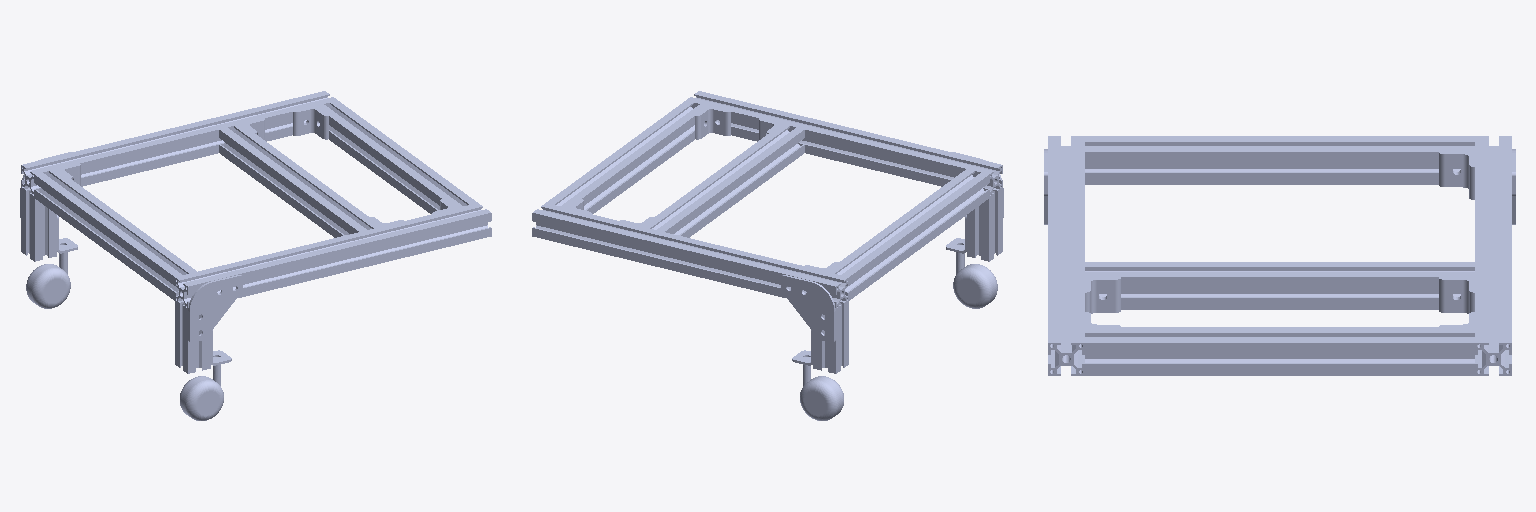
URDF robot description (ROS_Module_Assembly_v6):
<?xml version="1.0" encoding="utf-8"?>
<!-- This URDF was automatically created by SolidWorks to URDF Exporter! Originally created by [author] ([email redacted]) 
     Commit Version: 1.6.0-4-g7f85cfe  Build Version: 1.6.7995.38578
     For more information, please see http://wiki.ros.org/sw_urdf_exporter -->
<robot
  name="ROS_Module_Assembly_v6">
  <link
    name="base_link">
    <inertial>
      <origin
        xyz="0.0317243201587634 -0.128858942998281 -0.0390948539276145"
        rpy="0 0 0" />
      <mass
        value="2.19605365865044" />
      <inertia
        ixx="0.0063696939795915"
        ixy="3.38792695900137E-05"
        ixz="-1.30911858394434E-07"
        iyy="0.0035477515326301"
        iyz="-1.1650821227698E-06"
        izz="0.00903296845626077" />
    </inertial>
    <visual>
      <origin
        xyz="0 0 0"
        rpy="0 0 0" />
      <geometry>
        <mesh
          filename="package://ROS_Module_Assembly_v6/meshes/base_link.STL" />
      </geometry>
      <material
        name="">
        <color
          rgba="0.792156862745098 0.819607843137255 0.933333333333333 1" />
      </material>
    </visual>
    <collision>
      <origin
        xyz="0 0 0"
        rpy="0 0 0" />
      <geometry>
        <mesh
          filename="package://ROS_Module_Assembly_v6/meshes/base_link.STL" />
      </geometry>
    </collision>
  </link>
  <link
    name="input_rot_motor">
    <inertial>
      <origin
        xyz="-4.27720584713631E-05 0.0320085266107966 7.43535191642941E-05"
        rpy="0 0 0" />
      <mass
        value="0.0250911416959944" />
      <inertia
        ixx="7.17846660403851E-06"
        ixy="6.77842383614617E-10"
        ixz="-1.16921418139205E-08"
        iyy="2.34243127132187E-06"
        iyz="-1.1777267416574E-09"
        izz="7.1920657280501E-06" />
    </inertial>
    <visual>
      <origin
        xyz="0 0 0"
        rpy="0 0 0" />
      <geometry>
        <mesh
          filename="package://ROS_Module_Assembly_v6/meshes/input_rot_motor.STL" />
      </geometry>
      <material
        name="">
        <color
          rgba="0.792156862745098 0.819607843137255 0.933333333333333 1" />
      </material>
    </visual>
    <collision>
      <origin
        xyz="0 0 0"
        rpy="0 0 0" />
      <geometry>
        <mesh
          filename="package://ROS_Module_Assembly_v6/meshes/input_rot_motor.STL" />
      </geometry>
    </collision>
  </link>
  <joint
    name="base_to_input_rot_motor"
    type="continuous">
    <origin
      xyz="-0.00425 -0.18427 -0.009"
      rpy="1.5708 0 -1.5708" />
    <parent
      link="base_link" />
    <child
      link="input_rot_motor" />
    <axis
      xyz="0 1 0" />
  </joint>
  <link
    name="input_transl_motor">
    <inertial>
      <origin
        xyz="-1.86501153539576E-05 0.0471529677388538 -6.65458510142325E-05"
        rpy="0 0 0" />
      <mass
        value="0.0322551764640257" />
      <inertia
        ixx="1.59512613902741E-05"
        ixy="1.85134210099302E-09"
        ixz="3.57500867077241E-09"
        iyy="2.73036636453636E-06"
        iyz="6.6055090731218E-09"
        izz="1.59630154913409E-05" />
    </inertial>
    <visual>
      <origin
        xyz="0 0 0"
        rpy="0 0 0" />
      <geometry>
        <mesh
          filename="package://ROS_Module_Assembly_v6/meshes/input_transl_motor.STL" />
      </geometry>
      <material
        name="">
        <color
          rgba="0.792156862745098 0.819607843137255 0.933333333333333 1" />
      </material>
    </visual>
    <collision>
      <origin
        xyz="0 0 0"
        rpy="0 0 0" />
      <geometry>
        <mesh
          filename="package://ROS_Module_Assembly_v6/meshes/input_transl_motor.STL" />
      </geometry>
    </collision>
  </link>
  <joint
    name="base_to_transl_input"
    type="continuous">
    <origin
      xyz="0.07615 -0.16897 -0.008"
      rpy="1.5708 0 -1.8542" />
    <parent
      link="base_link" />
    <child
      link="input_transl_motor" />
    <axis
      xyz="0 1 0" />
  </joint>
  <link
    name="fork">
    <inertial>
      <origin
        xyz="9.71972270755739E-05 0.0198553943634375 -0.176442224634371"
        rpy="0 0 0" />
      <mass
        value="2.19393880104194" />
      <inertia
        ixx="0.00906173079537833"
        ixy="-1.54635658018766E-08"
        ixz="4.26201865444648E-06"
        iyy="0.0114899357916851"
        iyz="2.93350054754079E-05"
        izz="0.00390974131552444" />
    </inertial>
    <visual>
      <origin
        xyz="0 0 0"
        rpy="0 0 0" />
      <geometry>
        <mesh
          filename="package://ROS_Module_Assembly_v6/meshes/fork.STL" />
      </geometry>
      <material
        name="">
        <color
          rgba="0.792156862745098 0.819607843137255 0.933333333333333 1" />
      </material>
    </visual>
    <collision>
      <origin
        xyz="0 0 0"
        rpy="0 0 0" />
      <geometry>
        <mesh
          filename="package://ROS_Module_Assembly_v6/meshes/fork.STL" />
      </geometry>
    </collision>
  </link>
  <joint
    name="base_to_rot_fork"
    type="continuous">
    <origin
      xyz="0 0 0"
      rpy="0 0 0" />
    <parent
      link="base_link" />
    <child
      link="fork" />
    <axis
      xyz="0 0 1" />
  </joint>
  <link
    name="wheel">
    <inertial>
      <origin
        xyz="-0.0455118218515306 3.86107844252415E-06 3.16423035934266E-06"
        rpy="0 0 0" />
      <mass
        value="2.07570429999043" />
      <inertia
        ixx="0.032300006871377"
        ixy="-1.59875092218274E-09"
        ixz="9.58573111097097E-08"
        iyy="0.0166149864765961"
        iyz="-5.31143418125695E-09"
        izz="0.0166150262434133" />
    </inertial>
    <visual>
      <origin
        xyz="0 0 0"
        rpy="0 0 0" />
      <geometry>
        <mesh
          filename="package://ROS_Module_Assembly_v6/meshes/wheel.STL" />
      </geometry>
      <material
        name="">
        <color
          rgba="0.792156862745098 0.819607843137255 0.933333333333333 1" />
      </material>
    </visual>
    <collision>
      <origin
        xyz="0 0 0"
        rpy="0 0 0" />
      <geometry>
        <mesh
          filename="package://ROS_Module_Assembly_v6/meshes/wheel.STL" />
      </geometry>
    </collision>
  </link>
  <joint
    name="fork_to_wheel"
    type="continuous">
    <origin
      xyz="0 0.049968 -0.336"
      rpy="-1.6031 0 1.5708" />
    <parent
      link="fork" />
    <child
      link="wheel" />
    <axis
      xyz="1 0 0" />
  </joint>
  <link
    name="vert_bevel_shaft">
    <inertial>
      <origin
        xyz="-4.11906576247567E-06 0.170664525496025 -2.07212903265142E-05"
        rpy="0 0 0" />
      <mass
        value="0.119268839432703" />
      <inertia
        ixx="0.000123219155791243"
        ixy="-9.10291133470462E-09"
        ixz="2.32362997039993E-09"
        iyy="6.17307007401612E-05"
        iyz="-4.57855855631893E-08"
        izz="0.000123230383261293" />
    </inertial>
    <visual>
      <origin
        xyz="0 0 0"
        rpy="0 0 0" />
      <geometry>
        <mesh
          filename="package://ROS_Module_Assembly_v6/meshes/vert_bevel_shaft.STL" />
      </geometry>
      <material
        name="">
        <color
          rgba="0.792156862745098 0.819607843137255 0.933333333333333 1" />
      </material>
    </visual>
    <collision>
      <origin
        xyz="0 0 0"
        rpy="0 0 0" />
      <geometry>
        <mesh
          filename="package://ROS_Module_Assembly_v6/meshes/vert_bevel_shaft.STL" />
      </geometry>
    </collision>
  </link>
  <joint
    name="base_to_rot_bevel_shaft"
    type="continuous">
    <origin
      xyz="0 0 -0.1357"
      rpy="1.5708 0 -0.1391" />
    <parent
      link="base_link" />
    <child
      link="vert_bevel_shaft" />
    <axis
      xyz="0 1 0" />
  </joint>
</robot>

--- What the picture shows (computed from the rendered views, not written in the file) ---
Views: 3 orthographic renders of the robot side by side, from view 1: azimuth 30°, elevation 25°; view 2: azimuth 150°, elevation 25°; view 3: azimuth 270°, elevation 25°.
Model ROS_Module_Assembly_v6 with 6 links and 5 joints (5 continuous), rooted at base_link, posed every joint at zero.
Visible links, largest first — view 1: base_link; view 2: base_link; view 3: base_link.
Boxes of the visible links, x1,y1,x2,y2 form: base_link: (20,91,491,420); base_link: (532,91,1003,420); base_link: (1044,136,1515,375).
Size in the robot's own frame: 0.4 by 0.386 by 0.1782 metres.
1 mesh visuals loaded from 6 distinct referenced files (1 binary STL); not drawn: 5 (reference not matched to a file when rendering).